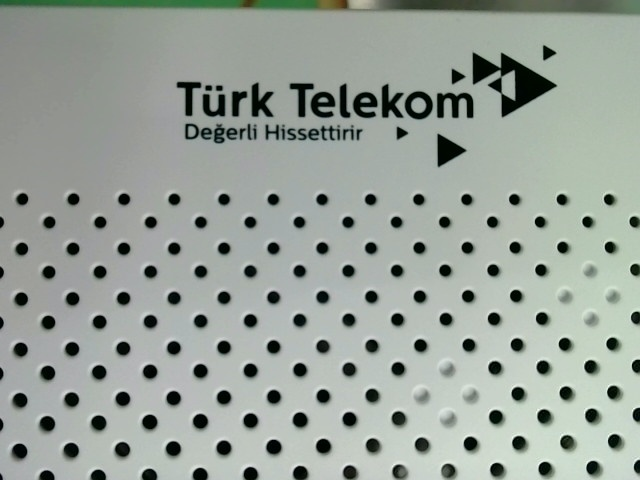AQ_TURKTelekom: (169, 33, 562, 172)
